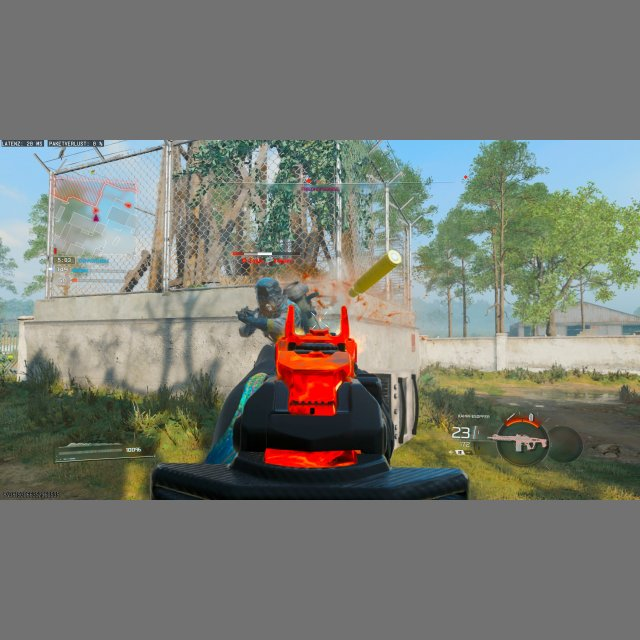head: (255, 277, 282, 310)
player: (237, 276, 331, 349)
